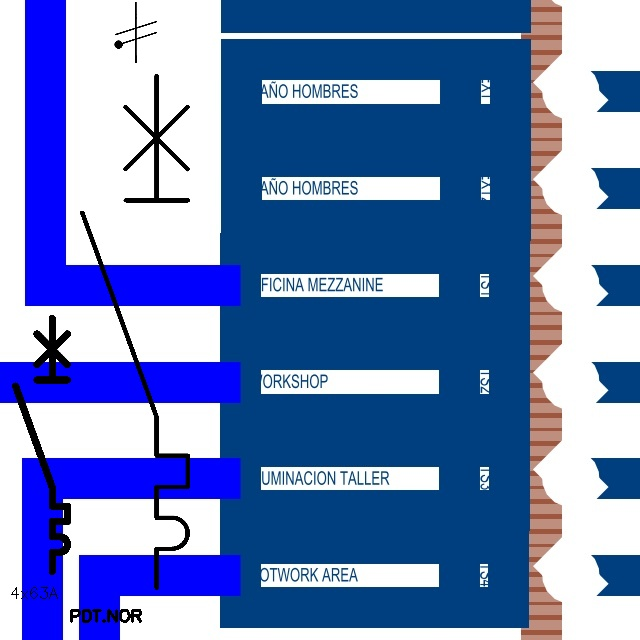interruptor_termomagnetico: (69, 62, 201, 600), (9, 312, 74, 578)
